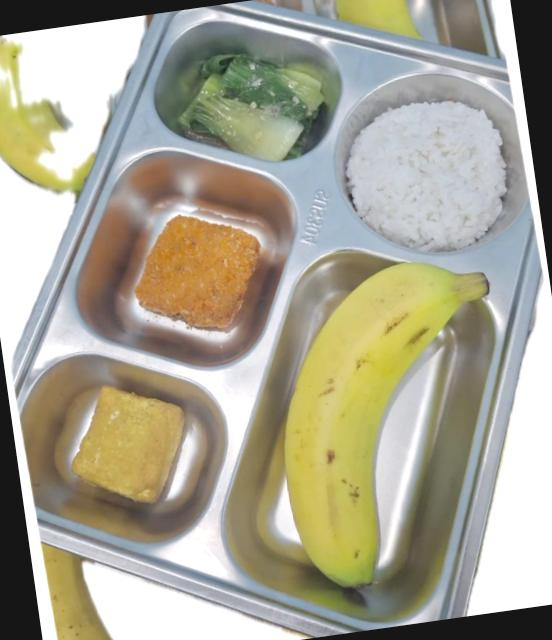ayam: (134, 216, 259, 328)
buah: (284, 263, 488, 587)
nasi: (345, 101, 506, 252)
sayur: (179, 55, 322, 161)
tahu: (71, 386, 184, 504)
